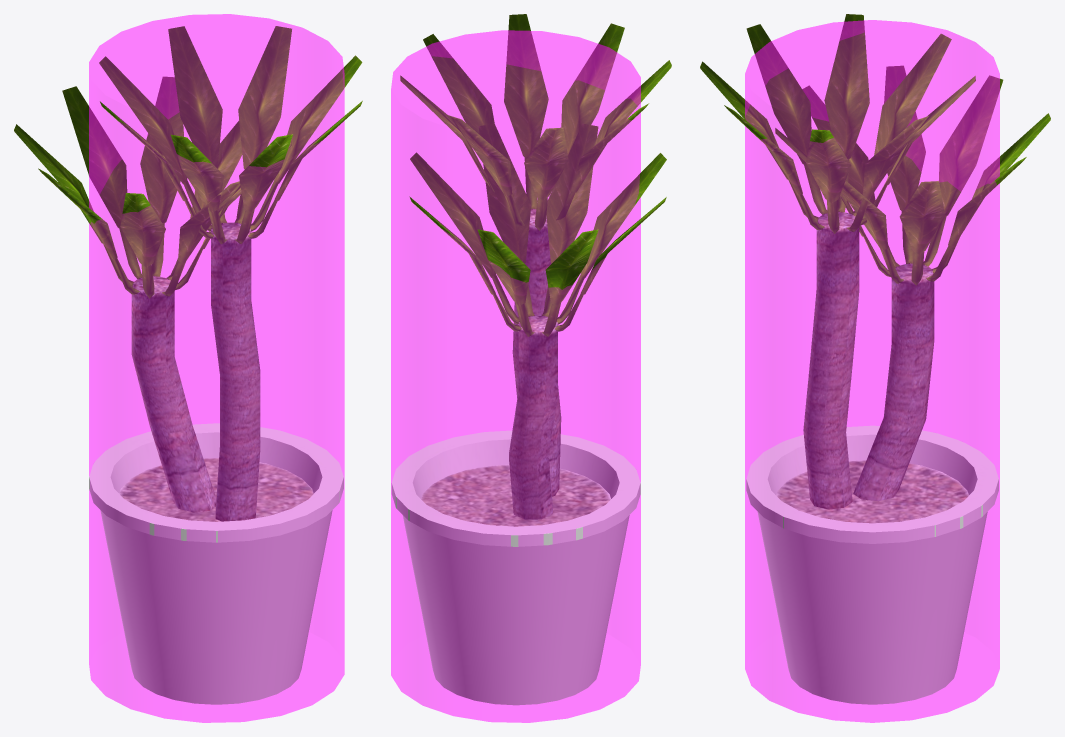
The model's file is plant_A.fbx.
3 views of the same model, side by side, from view 1: azimuth 30°, elevation 25°; view 2: azimuth 150°, elevation 25°; view 3: azimuth 270°, elevation 25° (orthographic). The views are drawn at different scales.
Visible parts, largest first — view 1: plant_A_boundingBox, plant_A; view 2: plant_A_boundingBox, plant_A; view 3: plant_A_boundingBox, plant_A.
Part boxes in pixels (box(x1,y1,x2,y2)): plant_A_boundingBox: box(89, 14, 344, 722); plant_A: box(14, 26, 362, 704); plant_A_boundingBox: box(391, 30, 640, 722); plant_A: box(391, 14, 671, 705); plant_A_boundingBox: box(745, 20, 999, 722); plant_A: box(700, 14, 1050, 704).
Size of the model in its own units: 0.6725 by 1.37 by 0.734.
2 materials, 1 textured.
